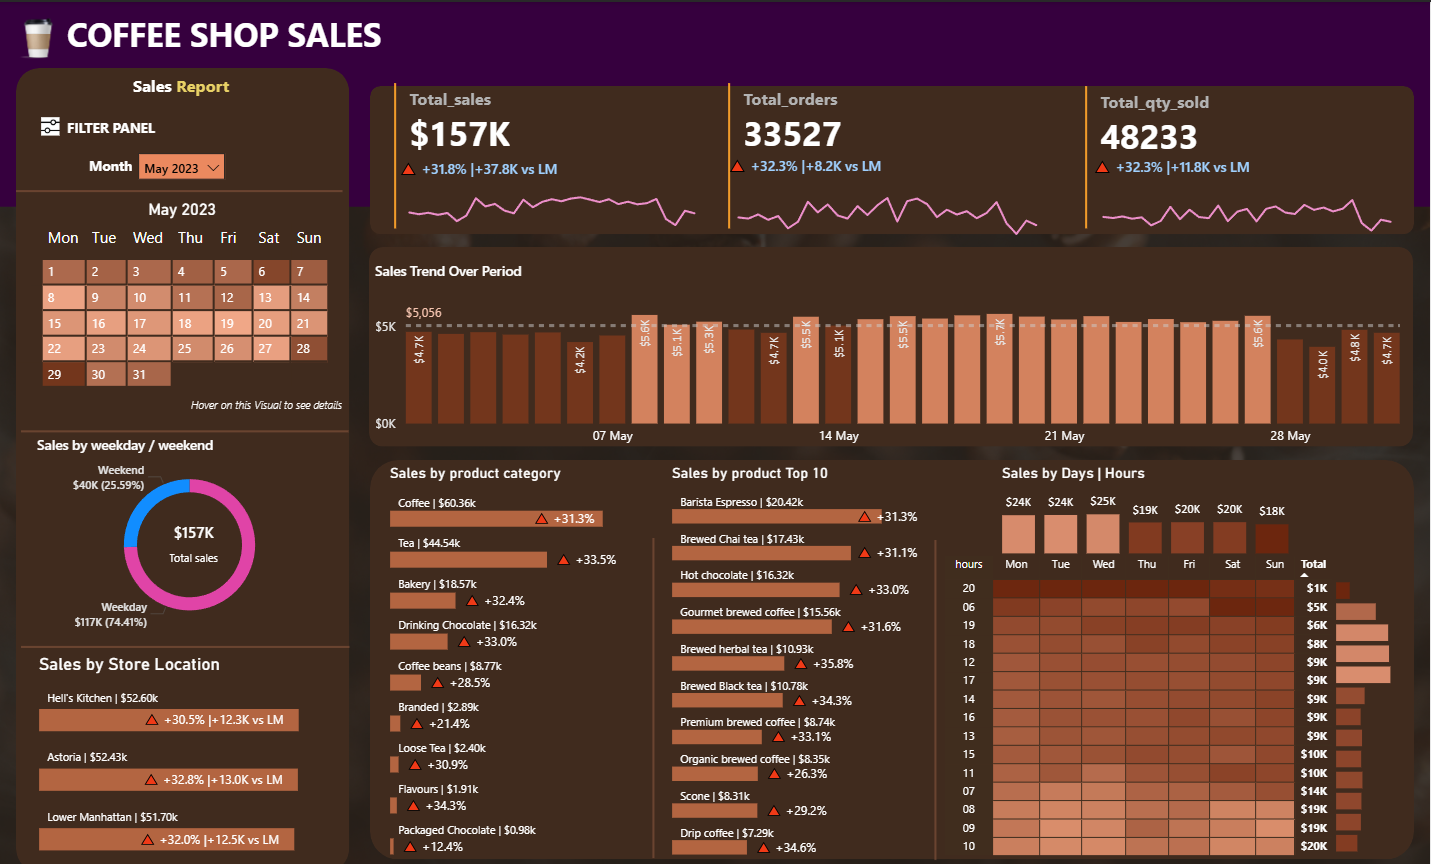

The dashboard page shown, as its layout file describes it:
{"tool":"powerbi","page":{"name":"Dashboard","canvas":[1400,850],"ordinal":0},"visuals":[{"type":"shape","box":[0,0,1400,200],"z":0},{"type":"shape","box":[17.8,64.4,325.6,785.6],"z":1000},{"type":"shape","box":[363.1,81.9,1020,144.8],"z":2000},{"type":"textbox","box":[63,4.2,347.3,60.9],"z":3000},{"type":"cardVisual","fields":{"Data":["Transactions.Total_sales"]},"box":[382,74.5,318,152.2],"z":4000},{"type":"slicer","fields":{"Values":["date Table.month_year"]},"box":[132.2,142.7,95.5,38.8],"z":5000},{"type":"lineChart","fields":{"Category":["date Table.Date.Variation.Date Hierarchy.Year","date Table.Date.Variation.Date Hierarchy.Quarter","date Table.Date.Variation.Date Hierarchy.Month","date Table.Date.Variation.Date Hierarchy.Day"],"Y":["Transactions.Total_sales"]},"box":[387.2,154.3,308.5,85],"z":6000},{"type":"cardVisual","fields":{"Data":["Transactions.Total_orders"]},"box":[708.3,74.5,328.5,152.2],"z":7000},{"type":"lineChart","fields":{"Category":["date Table.Date.Variation.Date Hierarchy.Year","date Table.Date.Variation.Date Hierarchy.Quarter","date Table.Date.Variation.Date Hierarchy.Month","date Table.Date.Variation.Date Hierarchy.Day"],"Y":["Transactions.Total_orders"]},"box":[708.3,151.1,321.1,81.9],"z":8000},{"type":"cardVisual","fields":{"Data":["Transactions.Total_qty_sold"]},"box":[1056.7,77.7,328.5,149],"z":9000},{"type":"lineChart","fields":{"Category":["date Table.Date.Variation.Date Hierarchy.Year","date Table.Date.Variation.Date Hierarchy.Quarter","date Table.Date.Variation.Date Hierarchy.Month","date Table.Date.Variation.Date Hierarchy.Day"],"Y":["Transactions.Total_qty_sold"]},"box":[1065.1,152.2,310.6,80.8],"z":10000},{"type":"pivotTable","fields":{"Columns":["date Table.Day name"],"Values":["Max(date Table.Day Number)"],"Rows":["date Table.week number"]},"box":[12.2,211.1,317.8,183.3],"z":11000},{"type":"card","fields":{"Values":["Min(date Table.month_year)"]},"box":[63.3,182.2,228.9,42.2],"z":12000},{"type":"card","fields":{"Values":["Transactions.FOOT NOTE"]},"box":[161.1,381.1,202.2,31.1],"z":13000},{"type":"shape","box":[22.2,404.4,320,30],"z":14000},{"type":"shape","box":[17.8,169,319,31.5],"z":15000},{"type":"donutChart","title":"Sales by weekday / weekend","fields":{"Y":["Transactions.Total_sales"],"Category":["date Table.weekday / weekend"]},"box":[33.3,424.4,307.8,195.6],"z":16000},{"type":"cardVisual","fields":{"Data":["Transactions.Total_sales"]},"box":[142.7,490.1,97.6,77.7],"z":17000},{"type":"shape","box":[22.2,614.4,321.1,31.1],"z":18000},{"type":"clusteredBarChart","title":"Sales by Store Location ","fields":{"Category":["Transactions.store_location"],"Y":["Transactions.placeholder","Transactions.Total_sales"]},"box":[35.6,636.7,292.2,200],"z":19000},{"type":"shape","box":[362,239.3,1020,195.2],"z":20000},{"type":"shape","box":[363.1,447,1020,390.4],"z":21000},{"type":"columnChart","title":"Sales Trend Over Period","fields":{"Category":["Transactions.transaction_date"],"Y":["Transactions.Total_sales"]},"box":[363.1,254,1020,187.8],"z":22000},{"type":"clusteredBarChart","title":"Sales by product category ","fields":{"Category":["Transactions.product_category"],"Y":["Transactions.placeholder","Transactions.Total_sales"]},"box":[377.8,452.3,249.8,386.2],"z":23000},{"type":"shape","box":[627.5,523.6,26.2,312.7],"z":24000},{"type":"clusteredBarChart","title":"Sales by product Top 10","fields":{"Y":["Transactions.placeholder","Transactions.Total_sales"],"Category":["Transactions.product_type"]},"box":[653.8,452.3,249.8,386.2],"z":25000},{"type":"shape","box":[902.5,525.7,26.2,312.7],"z":26000},{"type":"pivotTable","fields":{"Rows":["Transactions.hours"],"Columns":["date Table.Day name"],"Values":["Transactions.Total_sales"]},"box":[920.3,536.2,392.5,308.5],"z":27000},{"type":"barChart","fields":{"Category":["Transactions.hours"],"Y":["Transactions.Total_sales"]},"box":[1302.3,554.1,64,281.2],"z":28000},{"type":"columnChart","title":"Sales by Days | Hours","fields":{"Y":["Transactions.Total_sales"],"Category":["date Table.Day name"]},"box":[975.9,452.3,290.7,92.3],"z":29000},{"type":"textbox","box":[84,146.9,61.9,27.3],"z":30000},{"type":"textbox","box":[127,65.1,116.5,35.7],"z":31000},{"type":"textbox","box":[48.3,109.1,136.4,31.5],"z":32000},{"type":"image","box":[36.7,106,28.3,31.5],"z":33000},{"type":"image","box":[1,0,77.7,69.3],"z":34000}]}

Visuals, with their boxes in screenshot pixels (x1, y1, x2, y2), scaled from the page's 1400x850 canvas onto the 1431x864 screenshot:
shape: box=[0, 0, 1430, 203]
shape: box=[18, 65, 351, 863]
shape: box=[371, 83, 1414, 230]
textbox: box=[64, 4, 419, 66]
cardVisual - Transactions.Total_sales: box=[390, 76, 716, 230]
slicer - date Table.month_year: box=[135, 145, 233, 184]
lineChart - date Table.Date.Variation.Date Hierarchy.Year x date Table.Date.Variation.Date Hierarchy.Quarter: box=[396, 157, 711, 243]
cardVisual - Transactions.Total_orders: box=[724, 76, 1060, 230]
lineChart - date Table.Date.Variation.Date Hierarchy.Year x date Table.Date.Variation.Date Hierarchy.Quarter: box=[724, 154, 1052, 237]
cardVisual - Transactions.Total_qty_sold: box=[1080, 79, 1416, 230]
lineChart - date Table.Date.Variation.Date Hierarchy.Year x date Table.Date.Variation.Date Hierarchy.Quarter: box=[1089, 155, 1406, 237]
pivotTable - date Table.Day name x Max(date Table.Day Number): box=[12, 215, 337, 401]
card - Min(date Table.month_year): box=[65, 185, 299, 228]
card - Transactions.FOOT NOTE: box=[165, 387, 371, 419]
shape: box=[23, 411, 350, 442]
shape: box=[18, 172, 344, 204]
"Sales by weekday / weekend" donutChart: box=[34, 431, 349, 630]
cardVisual - Transactions.Total_sales: box=[146, 498, 246, 577]
shape: box=[23, 625, 351, 656]
"Sales by Store Location " clusteredBarChart: box=[36, 647, 335, 850]
shape: box=[370, 243, 1413, 442]
shape: box=[371, 454, 1414, 851]
"Sales Trend Over Period" columnChart: box=[371, 258, 1414, 449]
"Sales by product category " clusteredBarChart: box=[386, 460, 641, 852]
shape: box=[641, 532, 668, 850]
"Sales by product Top 10" clusteredBarChart: box=[668, 460, 924, 852]
shape: box=[922, 534, 949, 852]
pivotTable - Transactions.hours x date Table.Day name: box=[941, 545, 1342, 859]
barChart - Transactions.hours x Transactions.Total_sales: box=[1331, 563, 1397, 849]
"Sales by Days | Hours" columnChart: box=[998, 460, 1295, 554]
textbox: box=[86, 149, 149, 177]
textbox: box=[130, 66, 249, 102]
textbox: box=[49, 111, 189, 143]
image: box=[38, 108, 66, 140]
image: box=[1, 0, 80, 70]
